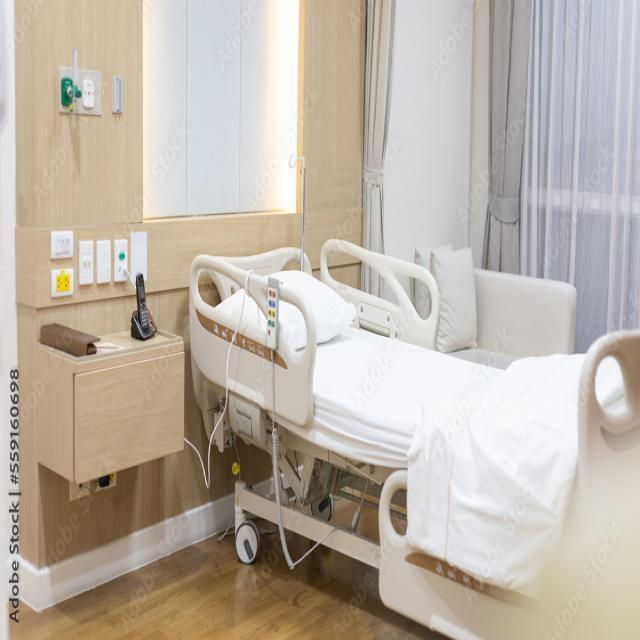bed: (188, 238, 639, 638)
